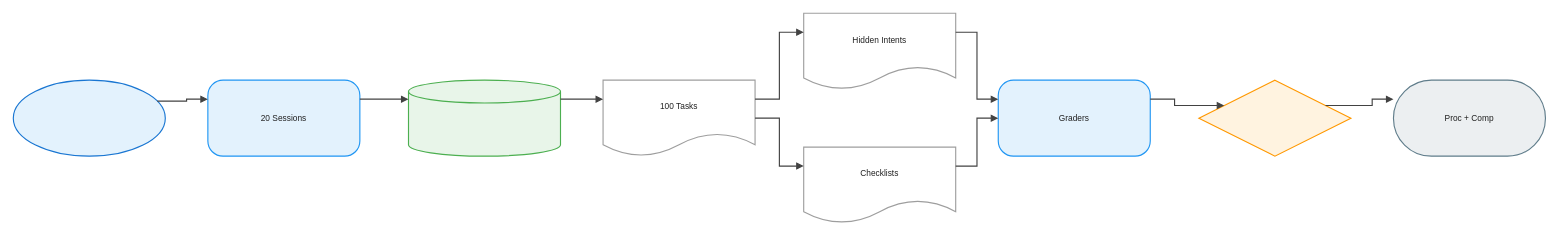
The diagram is 1560 pixels wide and 237 high, and some of its shapes have lost their labels. Here are the shapes that lost their labels. From the top down, the centre of each, then its label:
At (89,117): "5 Personas".
At (484,117): "Workspace".
At (1274,117): "Pilot QC".
